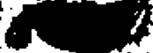Basket: (2, 0, 153, 53)
